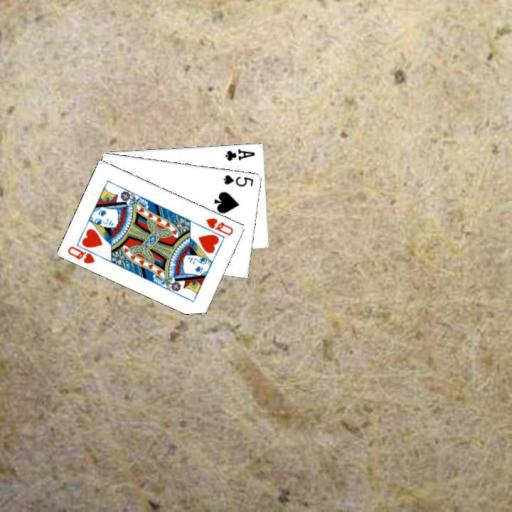5S: (221, 171, 256, 188)
AC: (223, 145, 257, 162)
QH: (65, 241, 103, 266), (203, 215, 235, 237)
